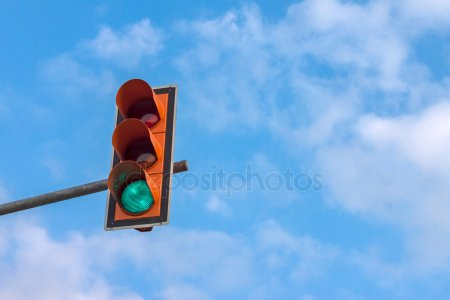traffic light: (92, 62, 187, 265)
